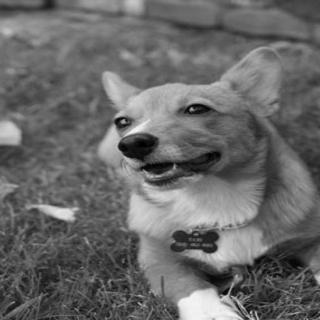dog: (91, 54, 303, 200)
nose: (116, 133, 158, 163)
